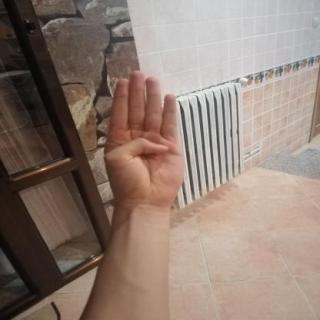KAAF: (96, 63, 194, 219)
